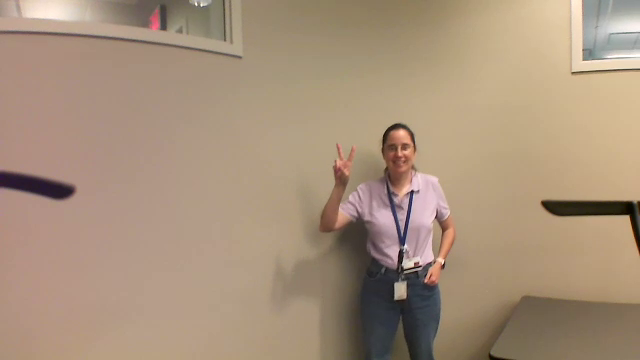peace: (326, 136, 361, 185)
